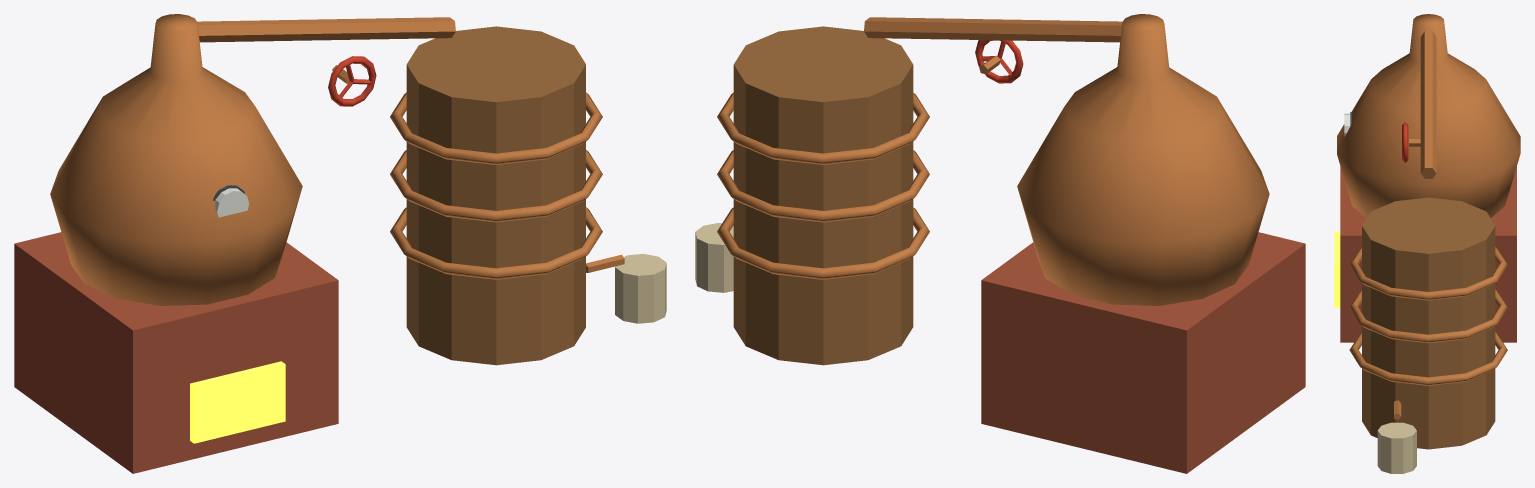
The model's file is Still@ValveTurn.fbx.
3 renders of one model, left to right at view 1: azimuth 30°, elevation 25°; view 2: azimuth 150°, elevation 25°; view 3: azimuth 270°, elevation 25°, orthographic. The views are drawn at different scales.
Parts seen in each view (by area): view 1: Still_Body, Still_Valve; view 2: Still_Body, Still_Valve; view 3: Still_Body, Still_Valve.
Part boxes in pixels (x1,y1,x2,y2): Still_Body: (14,14,666,473); Still_Valve: (328,56,376,106); Still_Body: (695,14,1305,473); Still_Valve: (975,40,1023,83); Still_Body: (1334,14,1520,473); Still_Valve: (1402,122,1408,162).
Bounding box in the file's own units: 1.26 × 0.8 × 0.474.
